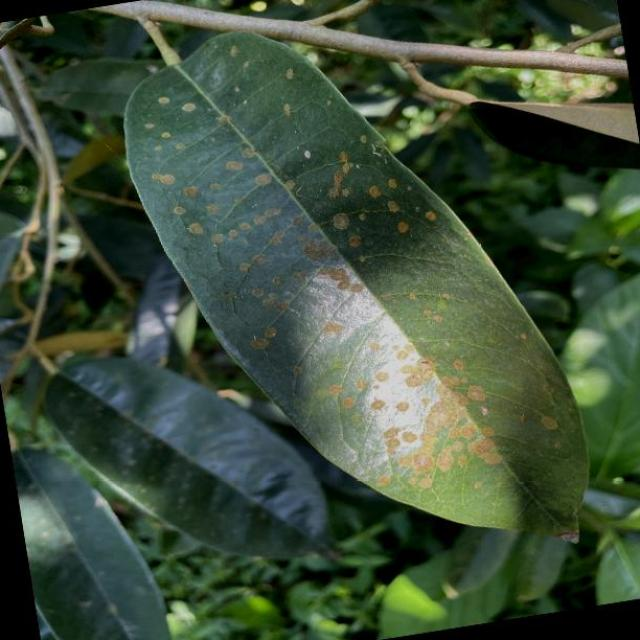Algal Leaf Spot: (98, 0, 614, 612)
